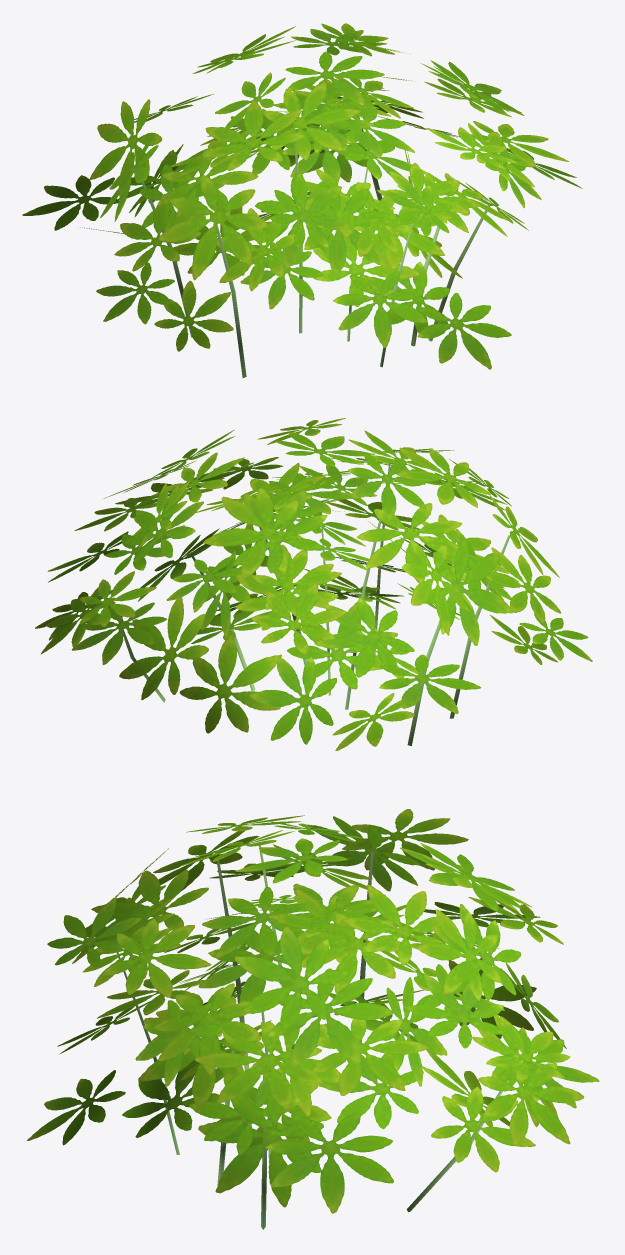
The model's file is P_BushTropical02.obj.
3 renders of one model, top to bottom at view 1: azimuth 30°, elevation 25°; view 2: azimuth 150°, elevation 25°; view 3: azimuth 270°, elevation 25°, orthographic. The views are drawn at different scales.
Size of the model in its own units: 3.07 by 1.63 by 2.58.
